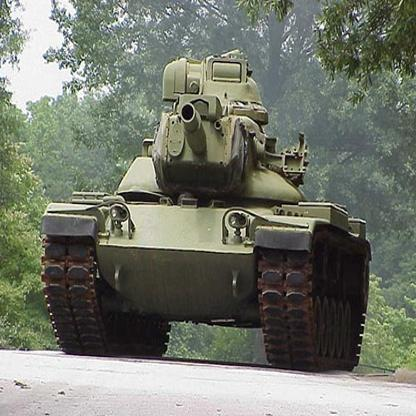Tank: (40, 55, 375, 375)
